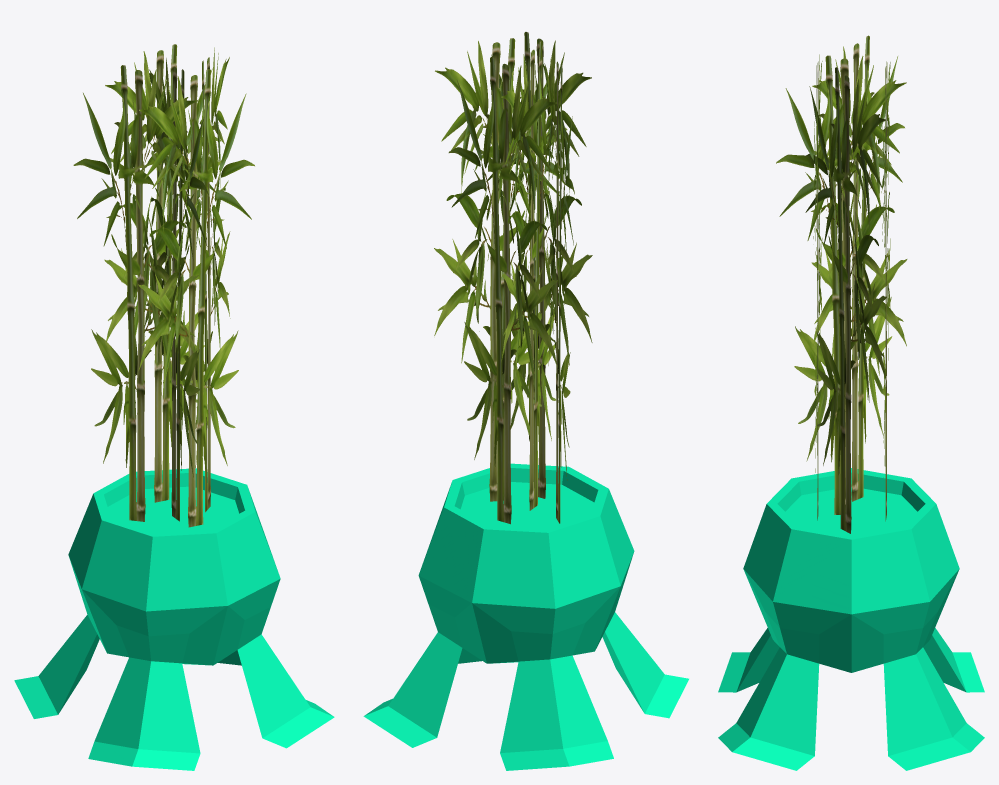
3 views of the same model, side by side, from view 1: azimuth 30°, elevation 25°; view 2: azimuth 150°, elevation 25°; view 3: azimuth 270°, elevation 25° (orthographic).
Parts seen in each view (by area): view 1: Cube, Plane.001; view 2: Cube, Plane.001; view 3: Cube, Plane.001.
Boxes of the visible parts, x1,y1,x2,y2 form: Cube: [14, 468, 334, 770]; Plane.001: [73, 44, 254, 527]; Cube: [363, 463, 688, 770]; Plane.001: [434, 32, 592, 524]; Cube: [718, 468, 984, 770]; Plane.001: [776, 35, 907, 533].
Bounding box in the file's own units: 205 × 563 × 207.
Materials: 6 (5 with a texture image).
